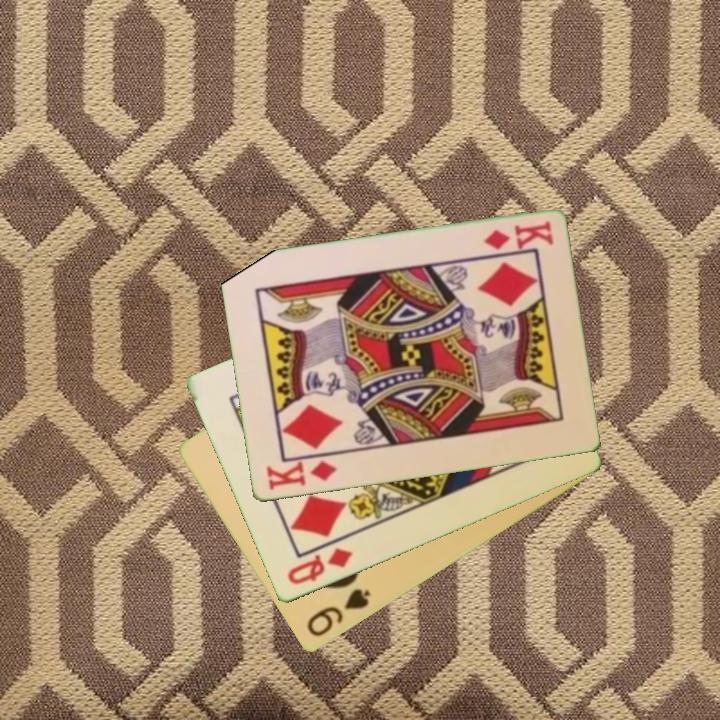9s: (303, 585, 373, 641)
Kd: (262, 457, 340, 494), (480, 218, 556, 253)
Qd: (283, 544, 355, 588)
